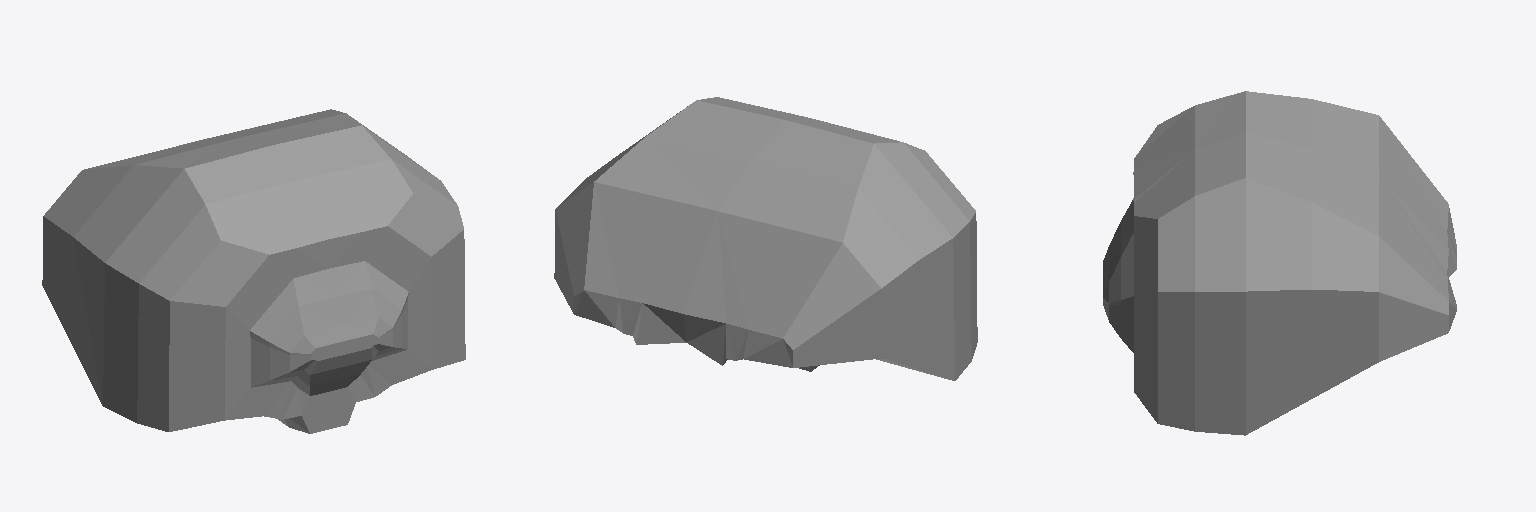
File: robot_EnemyHead.obj
3 renders of one model, left to right at view 1: azimuth 30°, elevation 25°; view 2: azimuth 150°, elevation 25°; view 3: azimuth 270°, elevation 25°, orthographic.
Visible parts, largest first — view 1: Plane; view 2: Plane; view 3: Plane.
Boxes of the visible parts, x1=… form: Plane: x1=42, y1=109, x2=465, y2=433; Plane: x1=554, y1=97, x2=977, y2=380; Plane: x1=1103, y1=91, x2=1456, y2=435.
Size of the model in its own units: 2.95 by 2.05 by 2.66.